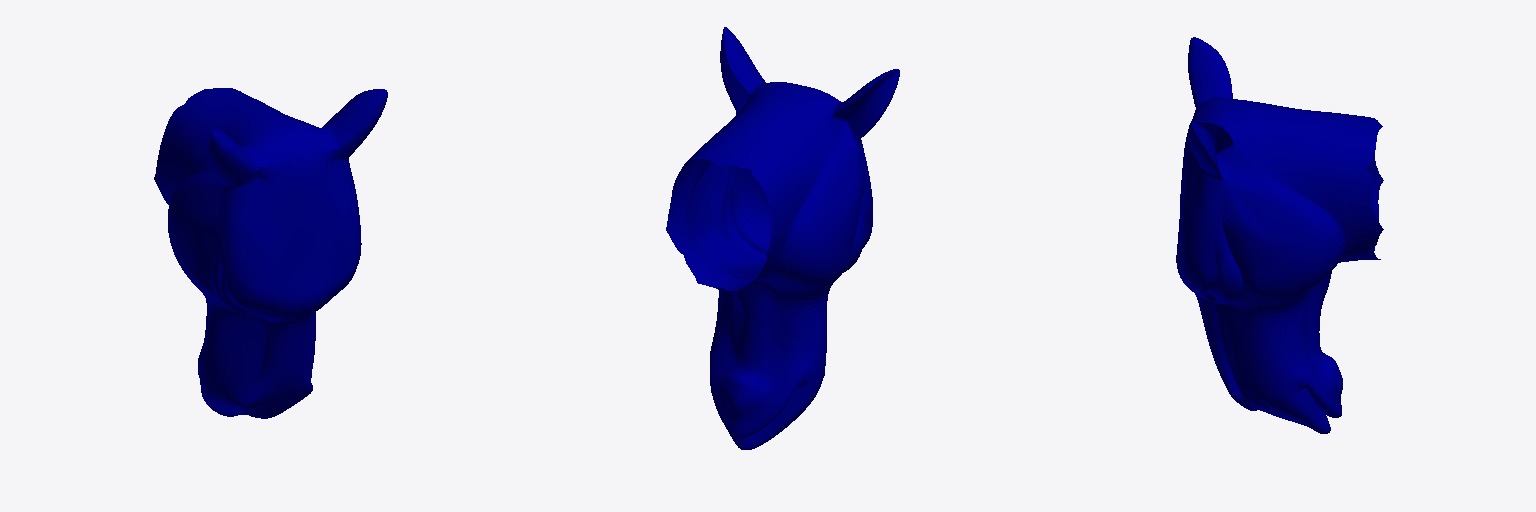
File: camel_export_blender.obj
The picture shows the model from 3 angles: view 1: azimuth 30°, elevation 25°; view 2: azimuth 150°, elevation 25°; view 3: azimuth 270°, elevation 25°; orthographic projection.
Size of the model in its own units: 5.72 by 10.92 by 5.8.